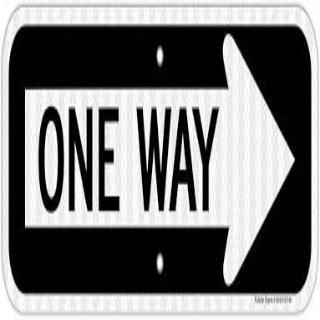sign_oneway_right: (3, 9, 313, 313)
